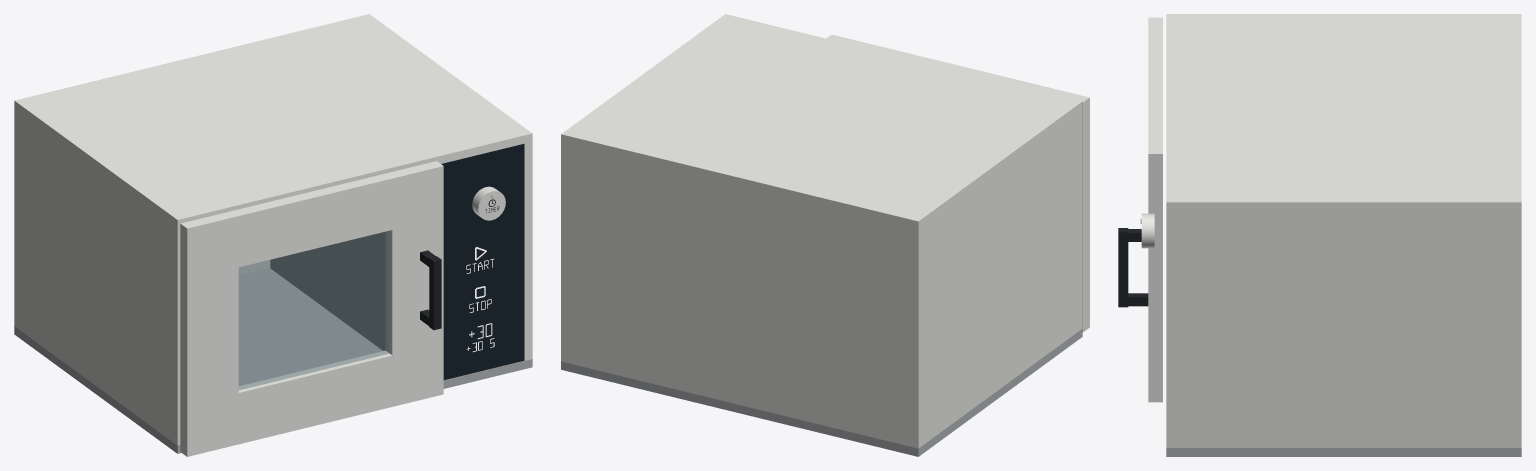
The picture shows the model from 3 angles, left to right: view 1: azimuth 30°, elevation 25°; view 2: azimuth 150°, elevation 25°; view 3: azimuth 270°, elevation 25°; orthographic projection. The views are drawn at different scales.
Parts seen in each view (by area): view 1: case_top, case_left, door_window, touch_panel, door_frame_left, cavity_floor, door_frame_right_inner, door_frame_top, door_frame_bottom, cavity_divider, door_frame_right, case_right (+2 smaller); view 2: case_back, case_top, case_left, cavity_floor, door_frame_left, case_right, door_frame_top; view 3: case_right, case_top, door_frame_right, cavity_floor, door_frame_top, door_handle, timer_knob_dial, door_frame_left.
Boxes of the visible parts, x1,y1,x2,y2 form: case_top: (14,14,532,228); case_left: (14,109,180,445); door_window: (239,231,389,389); touch_panel: (441,144,524,380); door_frame_left: (180,211,238,456); cavity_floor: (14,268,532,453); door_frame_right_inner: (385,164,431,406); door_frame_top: (232,173,392,267); door_frame_bottom: (238,350,392,444); cavity_divider: (270,232,385,350); door_frame_right: (425,161,443,396); case_right: (524,141,532,360); case_back: (569,144,910,446); case_top: (561,14,1082,229); case_left: (910,110,1082,448); cavity_floor: (561,329,1082,456); door_frame_left: (1033,85,1089,331); case_right: (561,142,568,363); door_frame_top: (878,47,1037,88); case_right: (1166,211,1521,447); case_top: (1166,14,1521,211); door_frame_right: (1148,147,1162,402); cavity_floor: (1166,448,1521,456); door_frame_top: (1148,45,1162,126); door_handle: (1118,228,1128,307); timer_knob_dial: (1141,213,1154,248); door_frame_left: (1148,17,1162,44).
Size of the model in its own units: 0.54 by 0.34 by 0.488.
